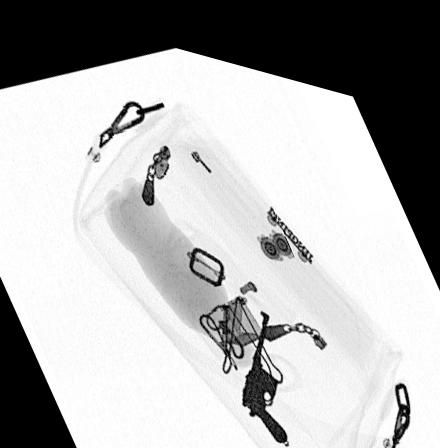Gun: (241, 296, 287, 428)
